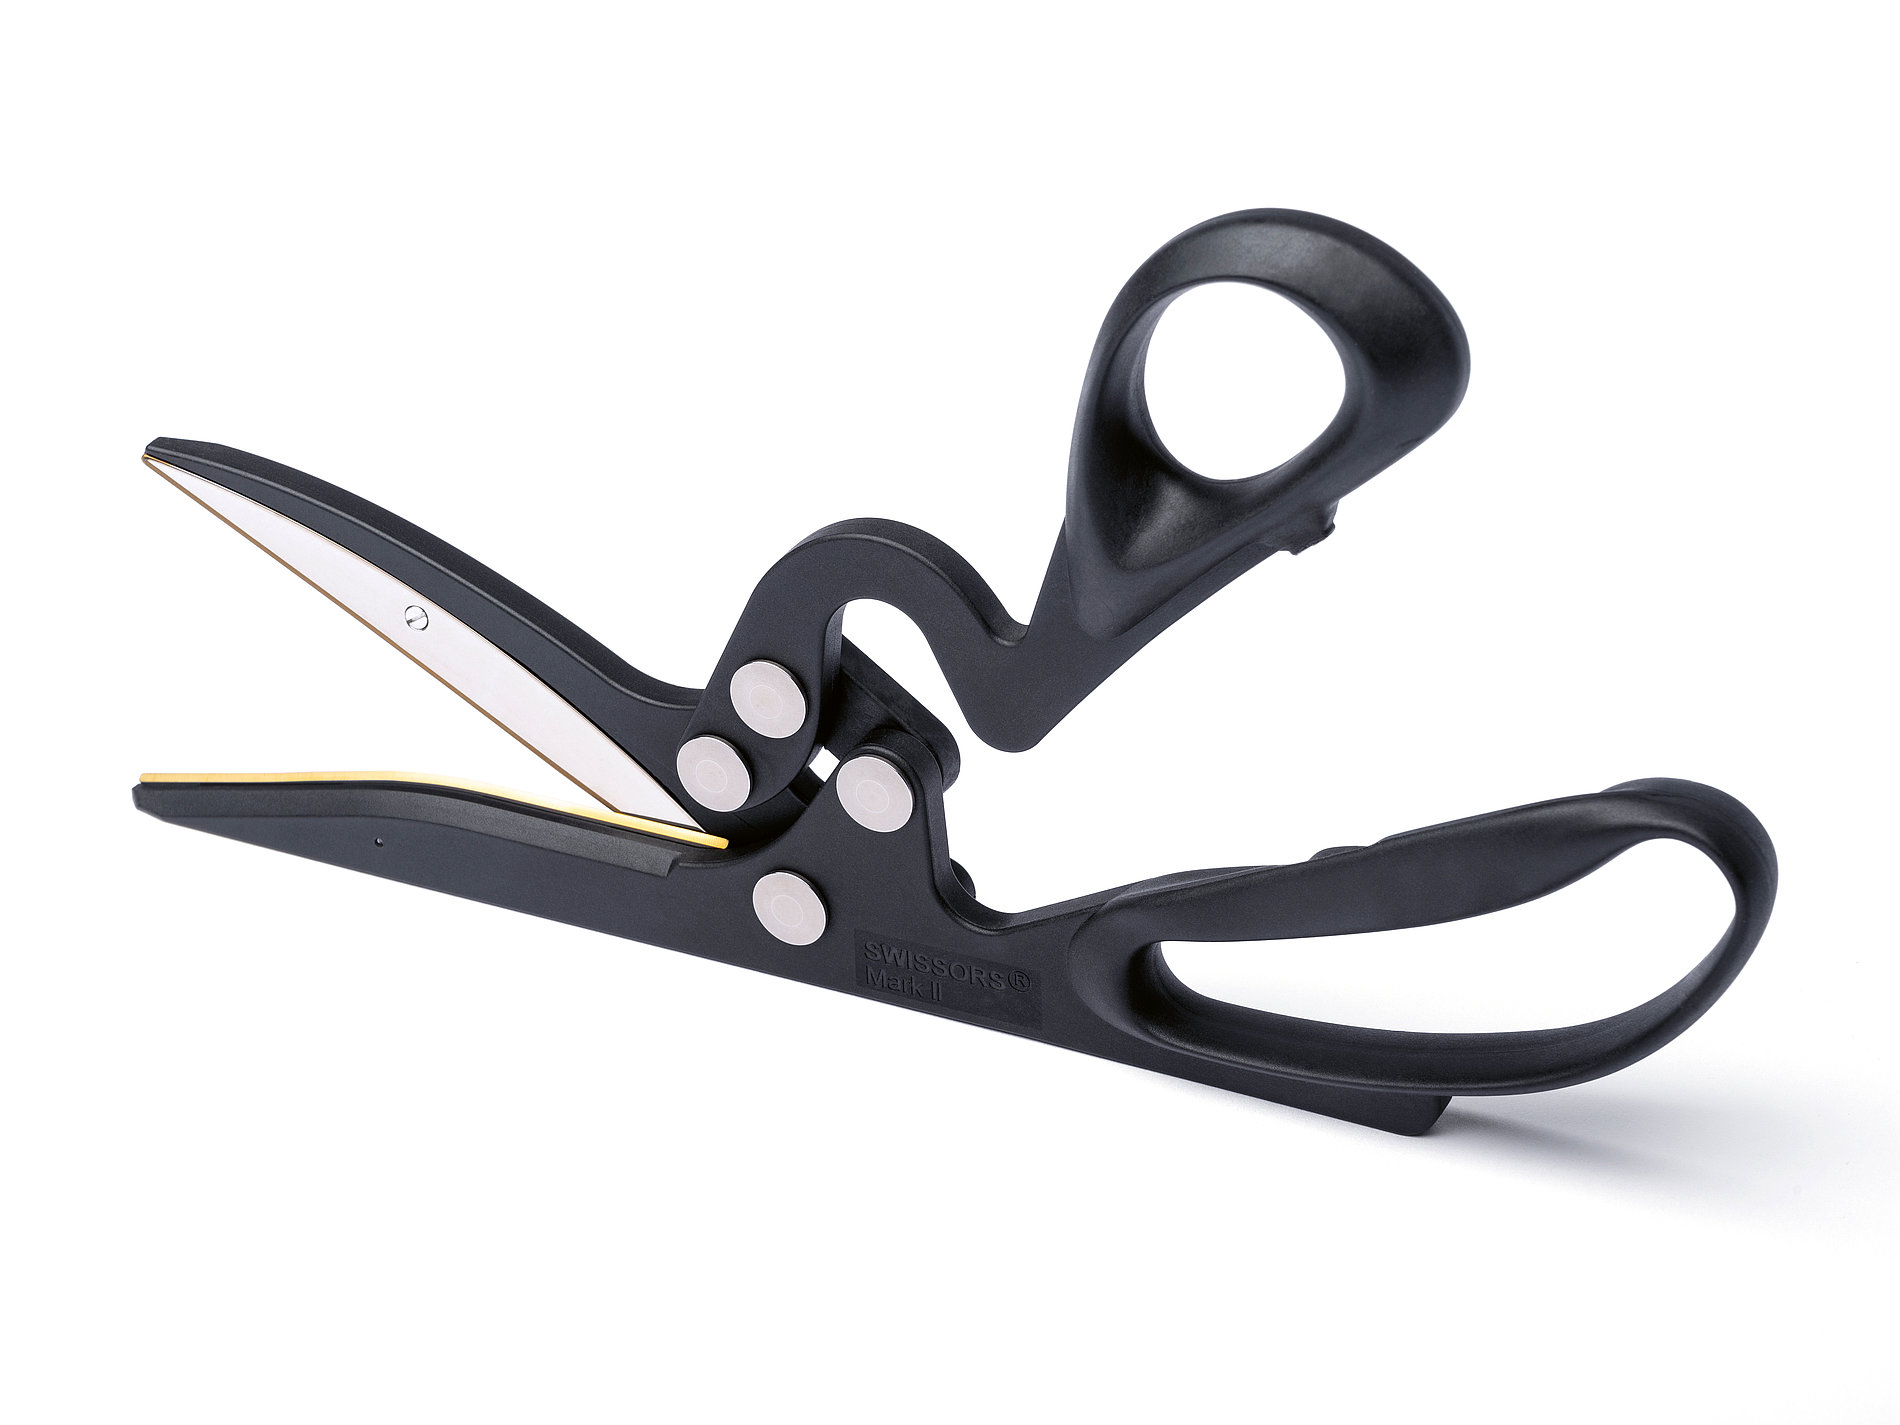scissors: (70, 204, 1806, 1165)
